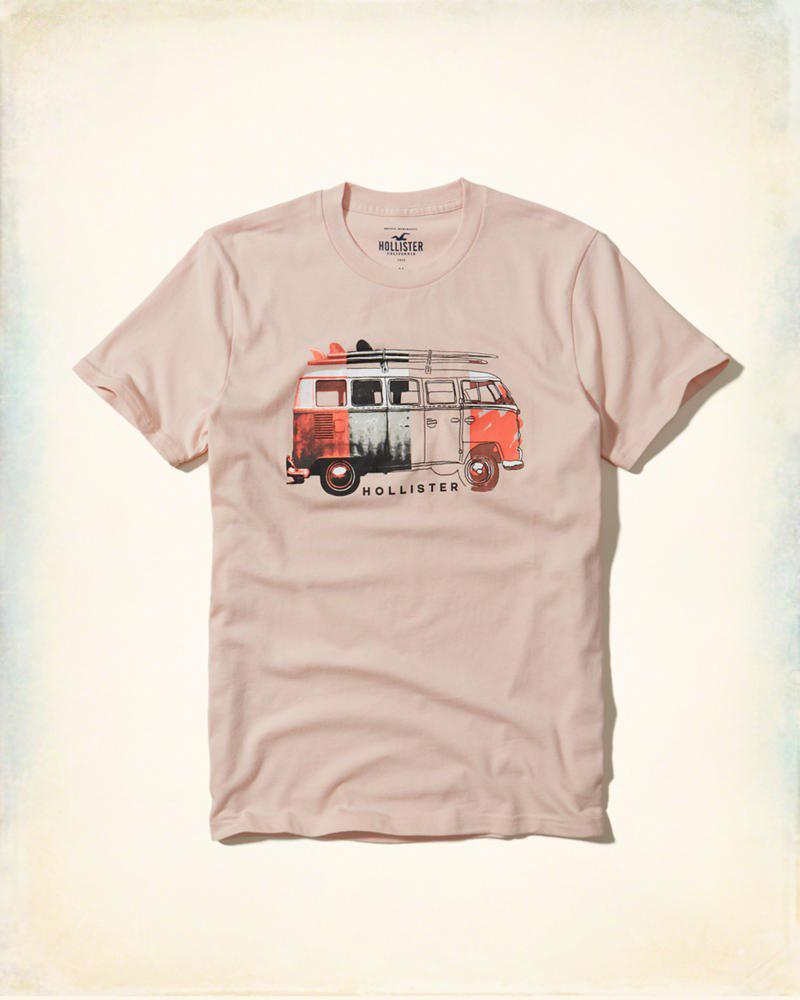teeshirt: (8, 8, 792, 992)
